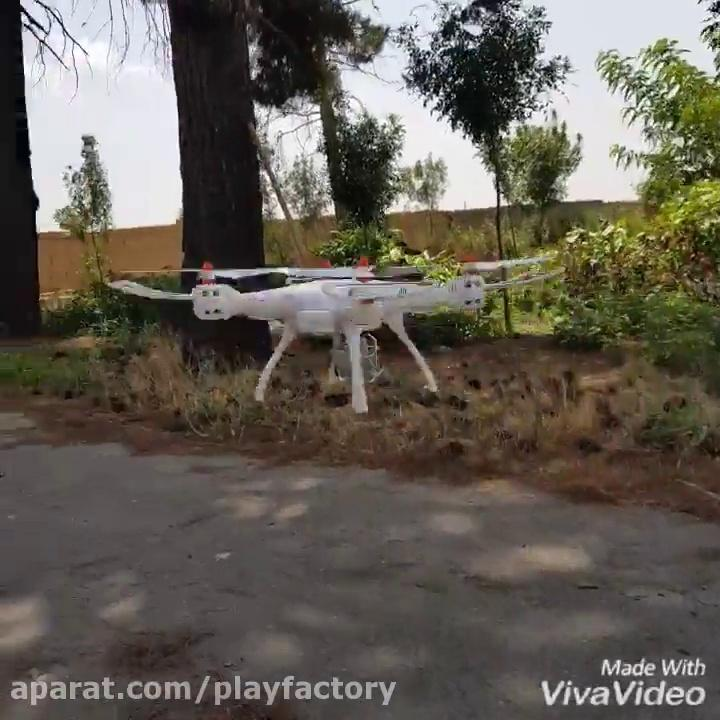drone: (105, 242, 564, 413)
